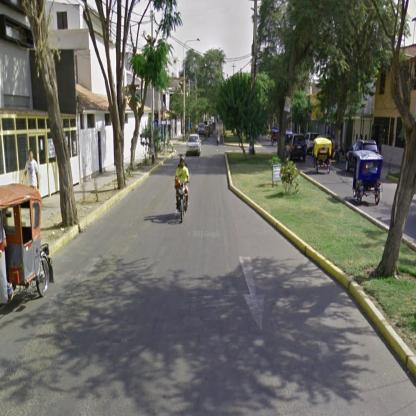Moto: (175, 155, 191, 224)
Pista: (1, 318, 416, 416), (52, 224, 317, 265)
Vehiculo: (353, 151, 384, 206), (314, 138, 333, 175), (187, 134, 203, 158)
